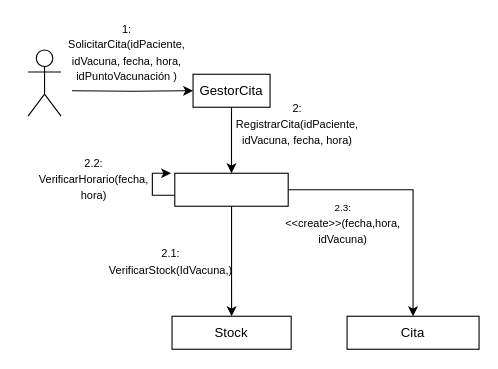
This 498x369 diagram has some shape labels left out. The centre of each missing label's shape, as x and y in pixels:
"Paciente" belongs at point 44,82.
"PuntoVacunación" belongs at point 231,189.
